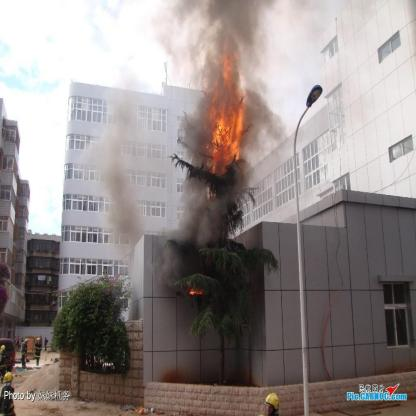fire: (199, 52, 250, 178), (183, 286, 202, 297)
smoke: (175, 180, 232, 262), (187, 3, 260, 57), (96, 162, 141, 243), (249, 94, 274, 149)
